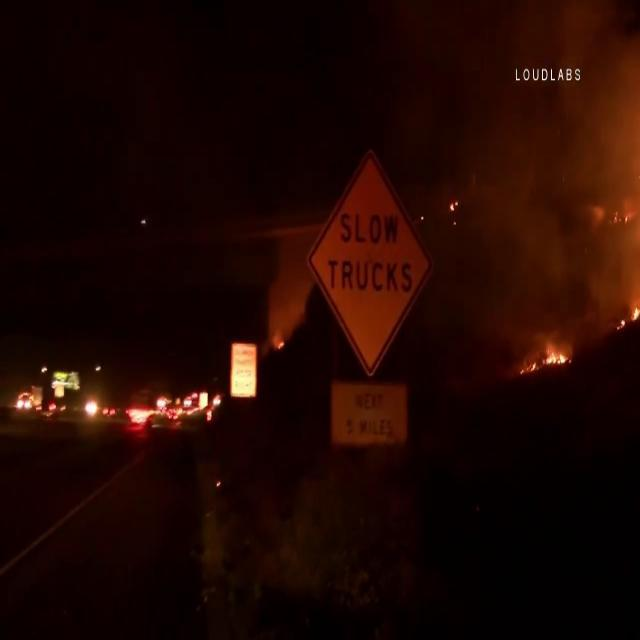Fire: (536, 336, 572, 369)
Smoke: (422, 0, 640, 306)
